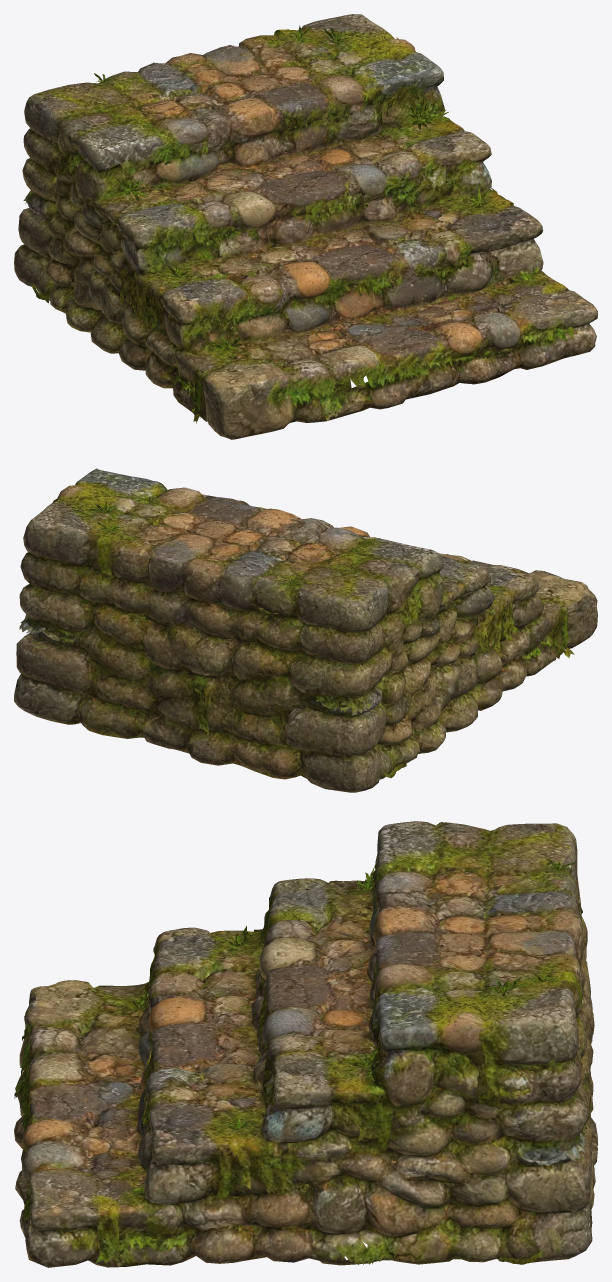
Rendered from prop-mossy-stairs.glb.
3 views of the same model, one above another, from view 1: azimuth 30°, elevation 25°; view 2: azimuth 150°, elevation 25°; view 3: azimuth 270°, elevation 25° (orthographic). The views are drawn at different scales.
Visible parts, largest first — view 1: Object_4; view 2: Object_4; view 3: Object_4.
Boxes of the visible parts, box(x1,y1,x2,y2) form: Object_4: box(14, 14, 597, 439); Object_4: box(14, 468, 597, 792); Object_4: box(14, 821, 597, 1267).
Size of the model in its own units: 0.9335 by 0.4794 by 1.
1 material, 1 textured.
